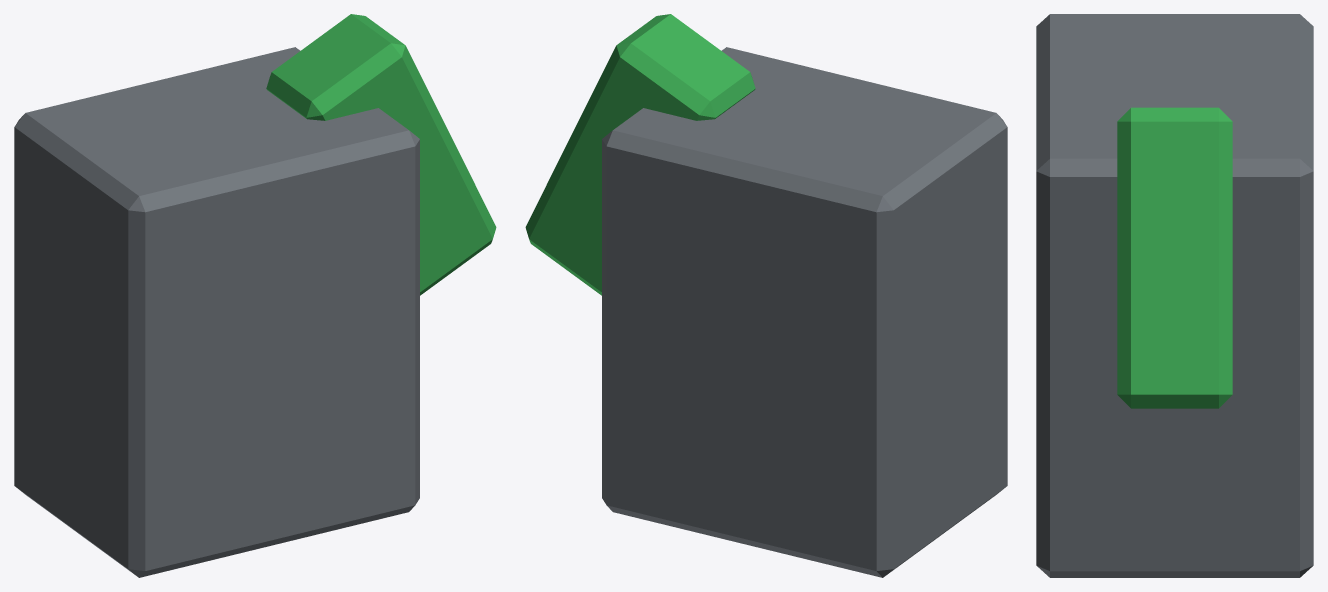
File: power_switch.glb
3 renders of one model, left to right at view 1: azimuth 30°, elevation 25°; view 2: azimuth 150°, elevation 25°; view 3: azimuth 270°, elevation 25°, orthographic. The views are drawn at different scales.
Visible parts, largest first — view 1: power_switch; view 2: power_switch; view 3: power_switch.
Boxes of the visible parts, box(x1,y1,x2,y2) form: power_switch: box(14, 14, 496, 577); power_switch: box(525, 14, 1007, 577); power_switch: box(1036, 14, 1313, 577).
Bounding box in the file's own units: 0.2221 × 0.2291 × 0.12.
